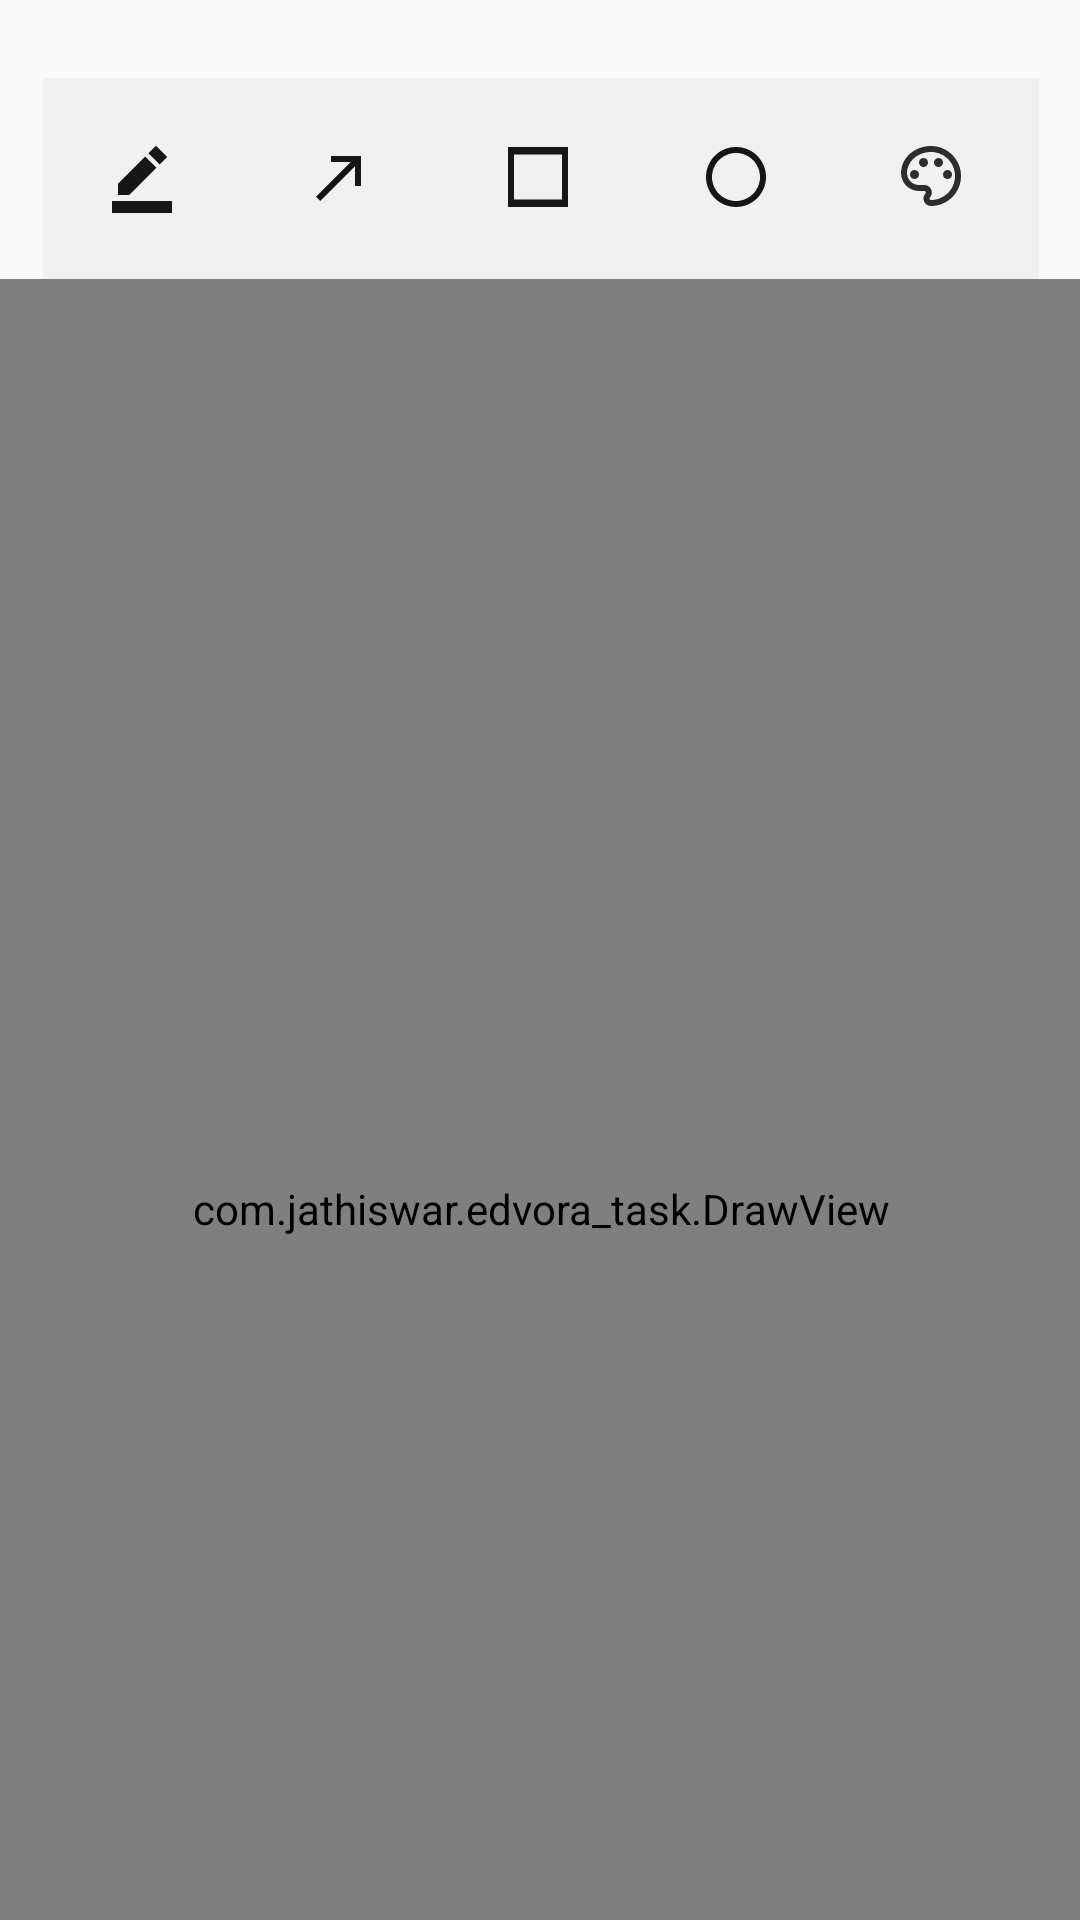

Where icons sit on this 1080×1920 app screen, as region(x1, y1, x2, y2):
arrow: region(316, 156, 361, 201)
pencil: region(112, 146, 172, 213)
